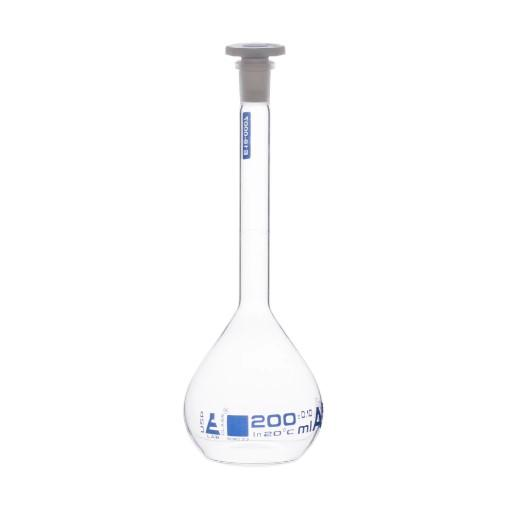Volumetric flask: (152, 32, 342, 461)
